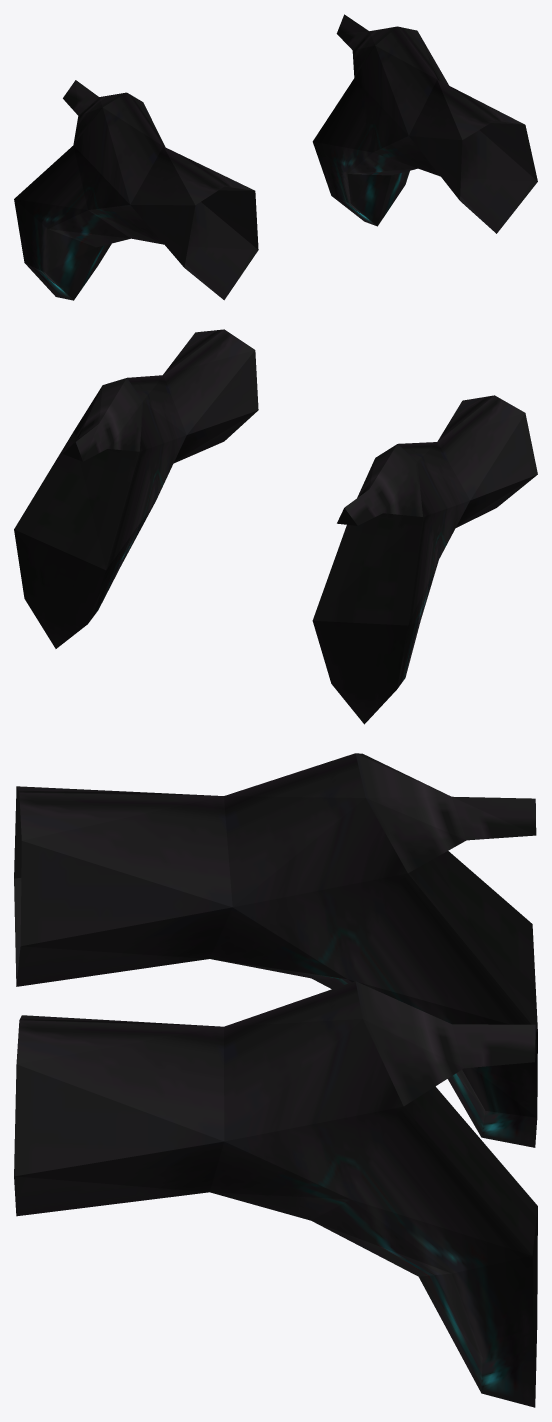
Rendered from taoist_shoe_female_48040.obj.
The picture shows the model from 3 angles, top to bottom: view 1: azimuth 30°, elevation 25°; view 2: azimuth 150°, elevation 25°; view 3: azimuth 270°, elevation 25°; orthographic projection. The views are drawn at different scales.
Parts seen in each view (by area): view 1: taoist_shoe_female_48040; view 2: taoist_shoe_female_48040; view 3: taoist_shoe_female_48040.
Part boxes in pixels (bbox=[...]): taoist_shoe_female_48040: bbox=[14, 14, 537, 300]; taoist_shoe_female_48040: bbox=[14, 329, 537, 724]; taoist_shoe_female_48040: bbox=[14, 753, 537, 1407].
Bounding box in the file's own units: 21.2 × 12.24 × 14.15.
Materials: 1 (1 with a texture image).
